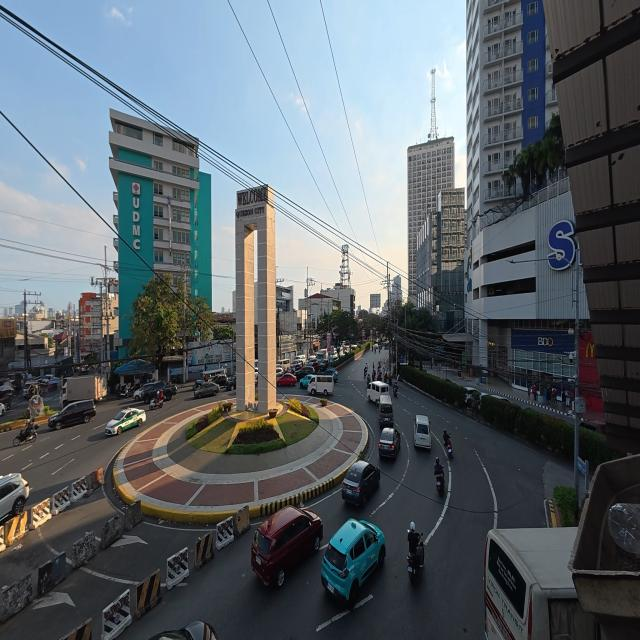bus: (485, 528, 599, 639)
car: (251, 506, 323, 587), (321, 519, 385, 607), (342, 461, 380, 506), (48, 400, 95, 429), (0, 473, 29, 518), (149, 621, 218, 639), (106, 408, 145, 435), (134, 381, 177, 403), (379, 428, 400, 458), (465, 387, 486, 408), (194, 382, 219, 399), (134, 382, 155, 400), (296, 365, 315, 380), (276, 373, 297, 386), (23, 382, 39, 398), (209, 374, 227, 387), (490, 394, 512, 403), (325, 368, 338, 382), (300, 375, 313, 388), (226, 376, 236, 391), (290, 363, 303, 374), (308, 361, 320, 372), (193, 379, 204, 390), (319, 360, 329, 372), (276, 367, 284, 378), (0, 403, 6, 415)
motorcycle: (13, 425, 36, 446), (407, 553, 422, 584), (436, 474, 444, 497), (149, 398, 163, 410), (119, 386, 130, 398), (446, 442, 452, 459), (393, 387, 397, 397), (364, 368, 367, 378)
trucks: (59, 374, 108, 407)
vans: (414, 415, 431, 449), (308, 374, 334, 395), (367, 381, 389, 404), (379, 395, 393, 427)
